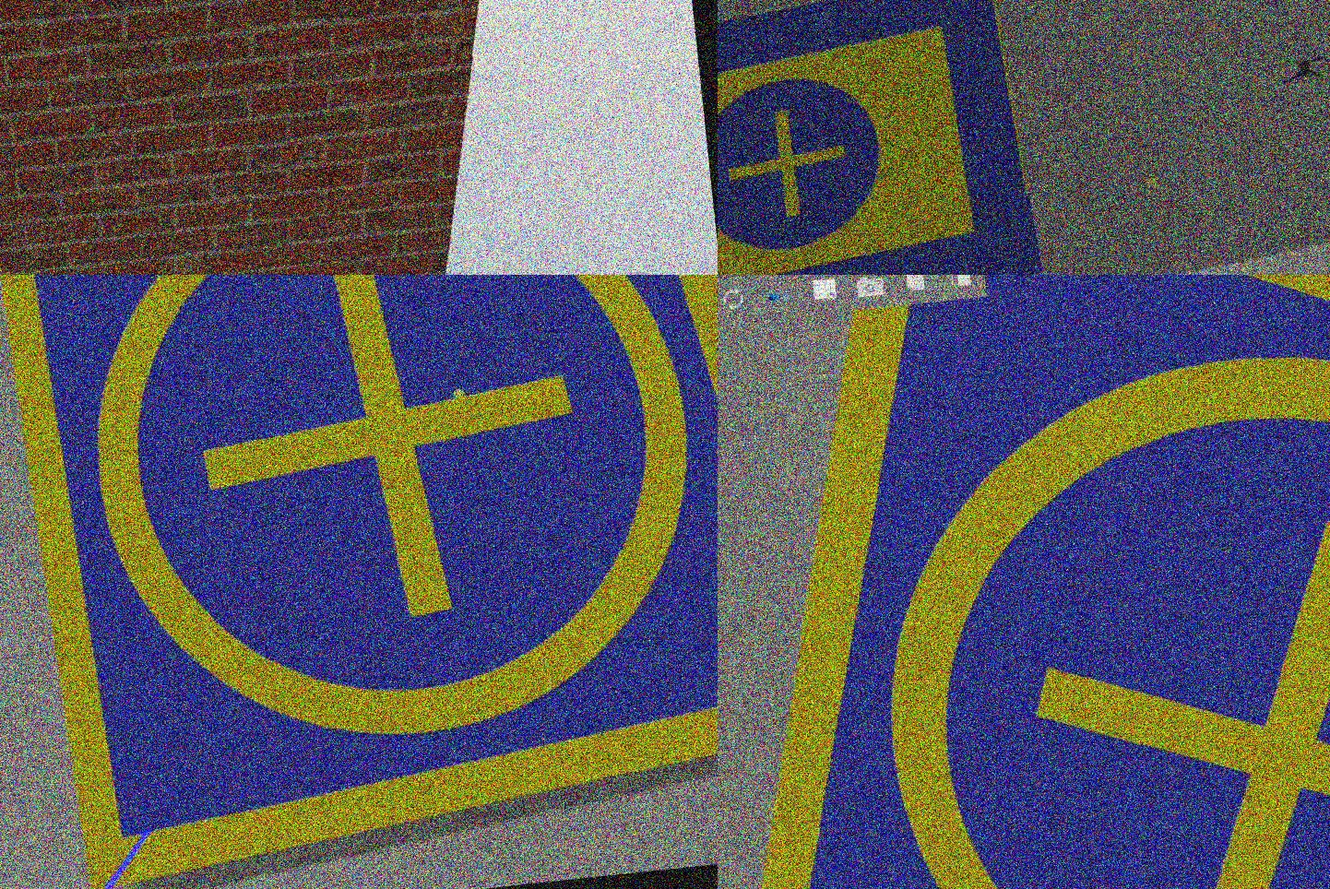large_base: (718, 1, 1050, 275)
small_base: (1, 275, 718, 889), (718, 275, 1330, 889)
